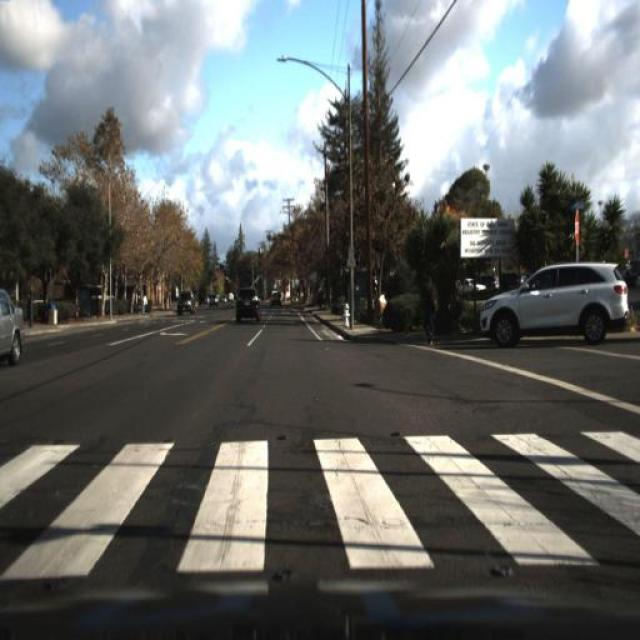car: (482, 261, 632, 345), (0, 286, 28, 369), (229, 276, 269, 332), (232, 284, 260, 326), (170, 286, 196, 322), (175, 289, 194, 319), (266, 286, 285, 310), (207, 290, 219, 310)
trafficLight: (418, 269, 442, 353), (416, 266, 436, 352), (142, 286, 150, 314)
